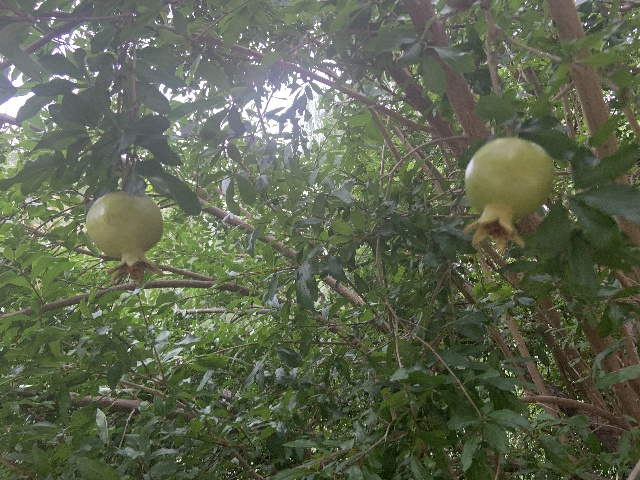mid-growth: (460, 137, 554, 254), (85, 191, 163, 283)
